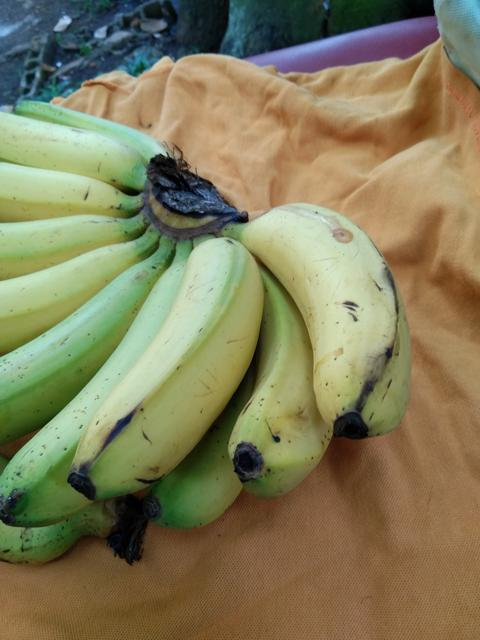freshripe: (0, 239, 136, 351), (0, 157, 119, 247), (0, 205, 115, 282)
ripe: (68, 235, 246, 498), (255, 192, 418, 441), (228, 320, 341, 495)
